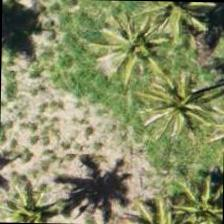Kelapa_Sawit: (89, 5, 181, 97), (133, 55, 223, 149), (0, 160, 88, 223), (139, 0, 223, 59)
